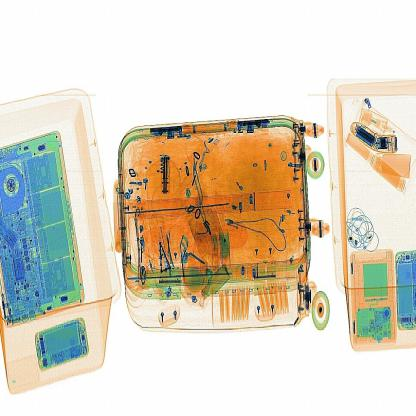scissors: (159, 150, 175, 197)
